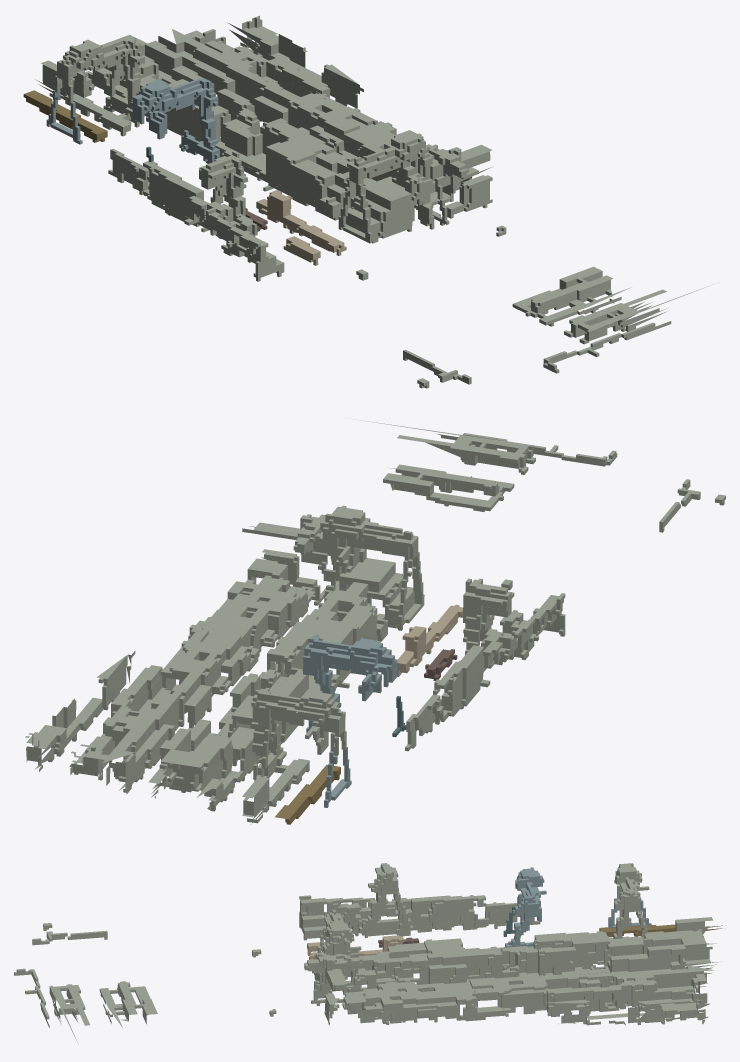
3 views of the same model, one above another, from view 1: azimuth 30°, elevation 25°; view 2: azimuth 150°, elevation 25°; view 3: azimuth 270°, elevation 25° (orthographic). The views are drawn at different scales.
Visible parts, largest first — view 1: measured-industrial; view 2: measured-industrial; view 3: measured-industrial.
Part boxes in pixels (<box>): measured-industrial: <box>23,15,718,388</box>; measured-industrial: <box>25,419,725,824</box>; measured-industrial: <box>14,863,722,1044</box>.
Bounding box in the file's own units: 114 × 28.35 × 249.
